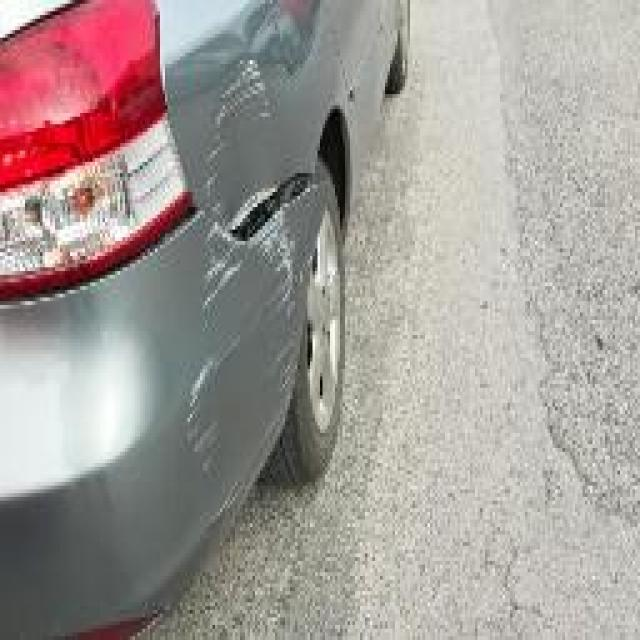Bumper: (190, 211, 312, 512)
Fender: (170, 15, 330, 211)
